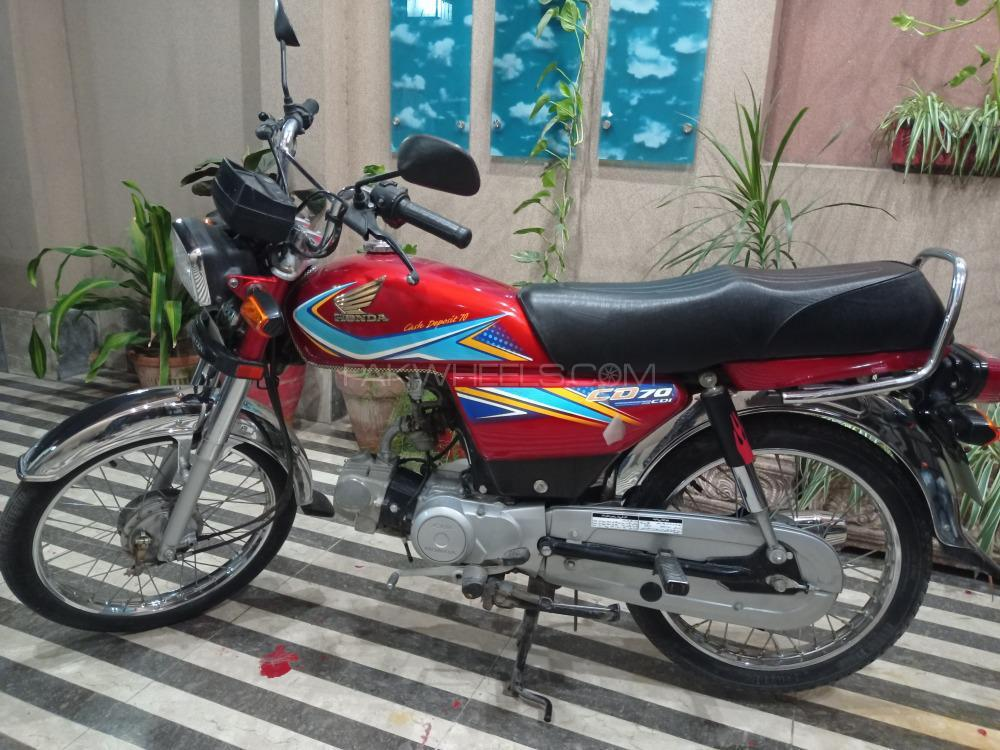bike: (2, 3, 1000, 693)
